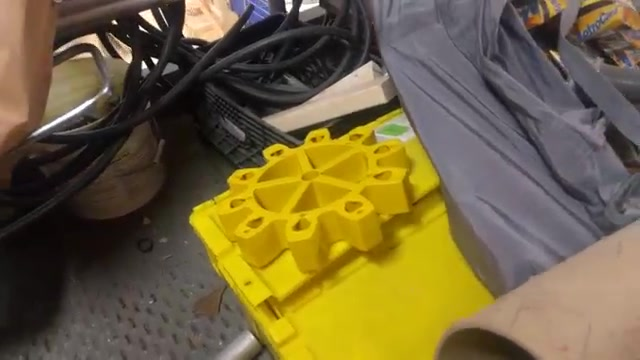gear: (222, 117, 419, 274)
